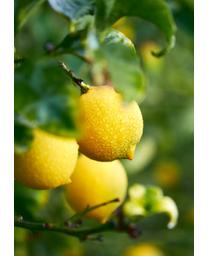lemon: (73, 84, 143, 164), (66, 150, 128, 219)
